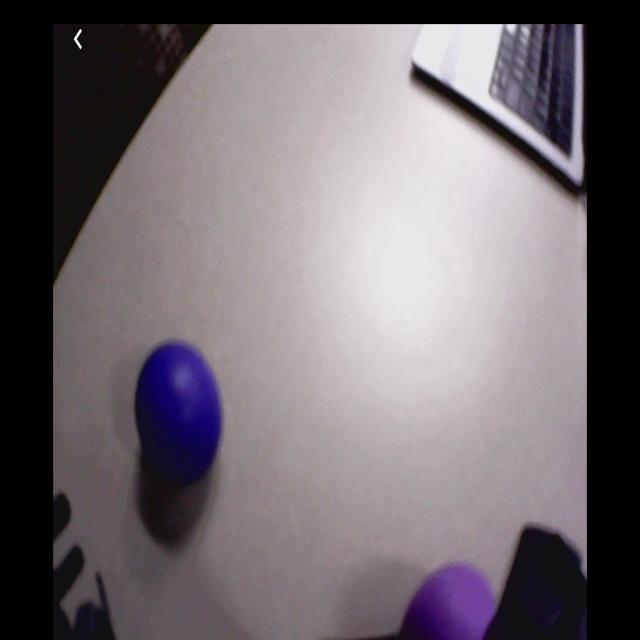ball: (136, 339, 222, 489), (404, 566, 498, 640)
